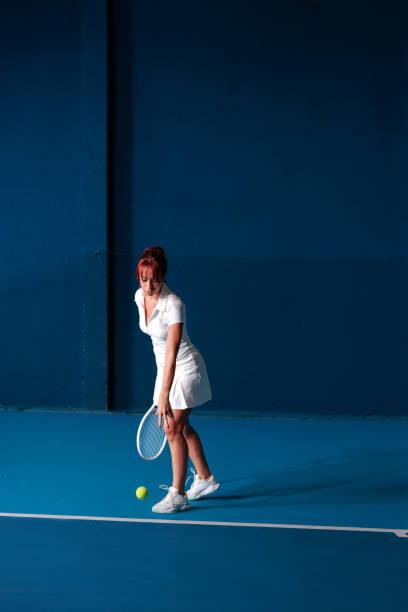ball_tennis: (135, 485, 148, 501)
